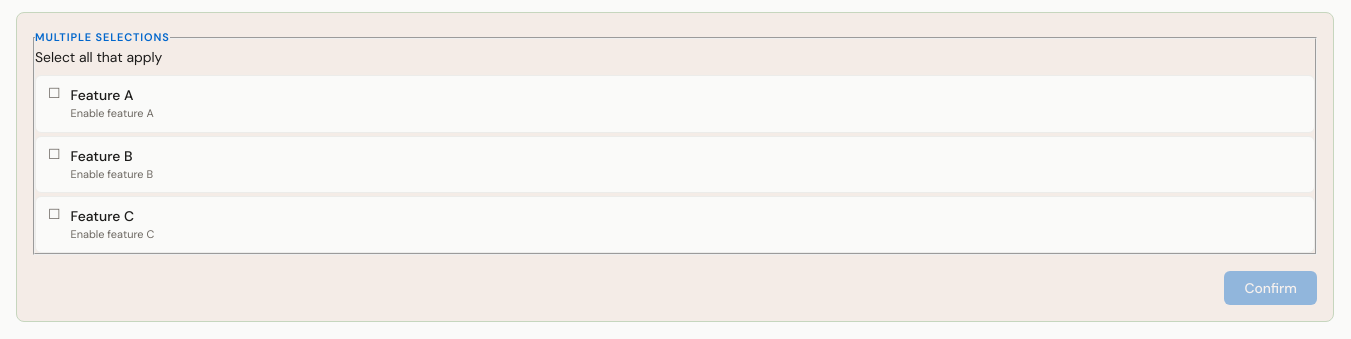
Test: QuestionPrompt › Multi Select Interactions › shows checked checkbox indicator when selected
Click the checkbox labelled "☐ Feature A Enable feature A". click: [102, 95]
box: [35, 76, 1315, 133]
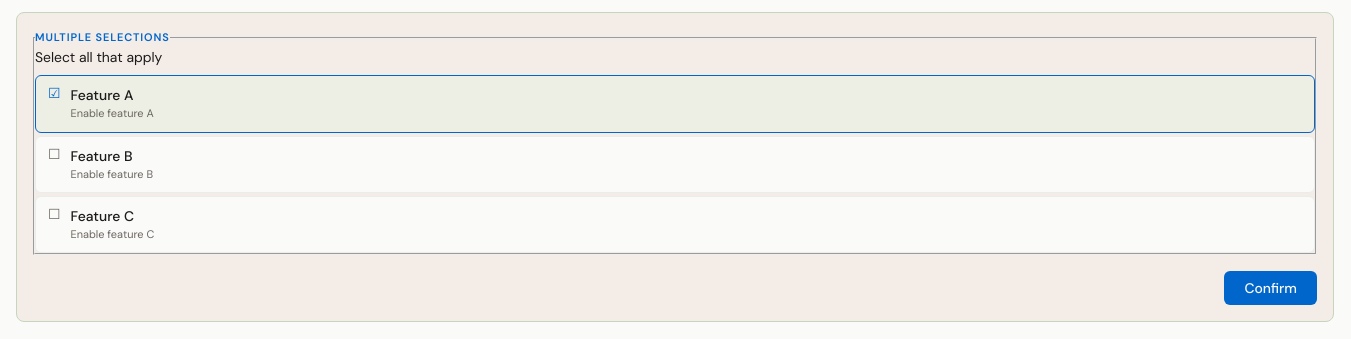
Expected: the text with class "option-indicator" reads "☑", [48, 84, 60, 102]
